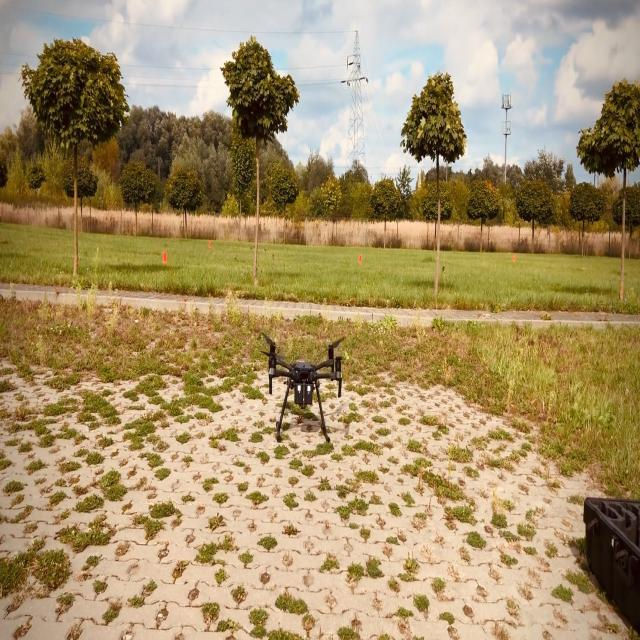drone: (260, 331, 345, 444)
